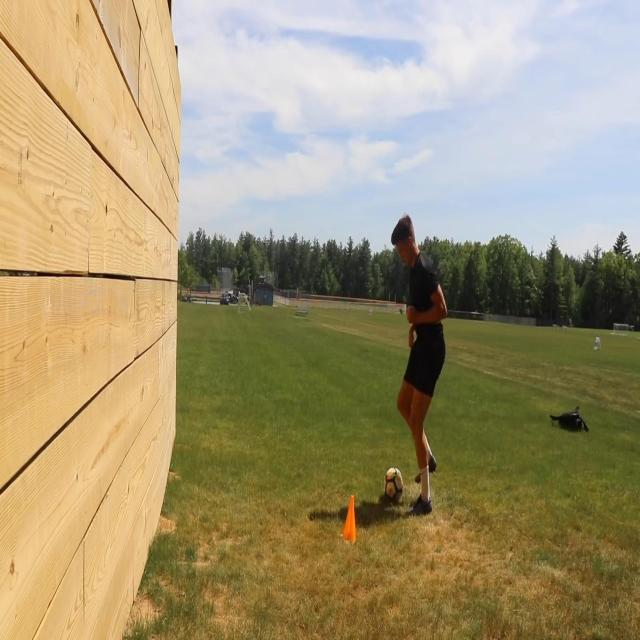Soccer Ball: (383, 466, 403, 503)
